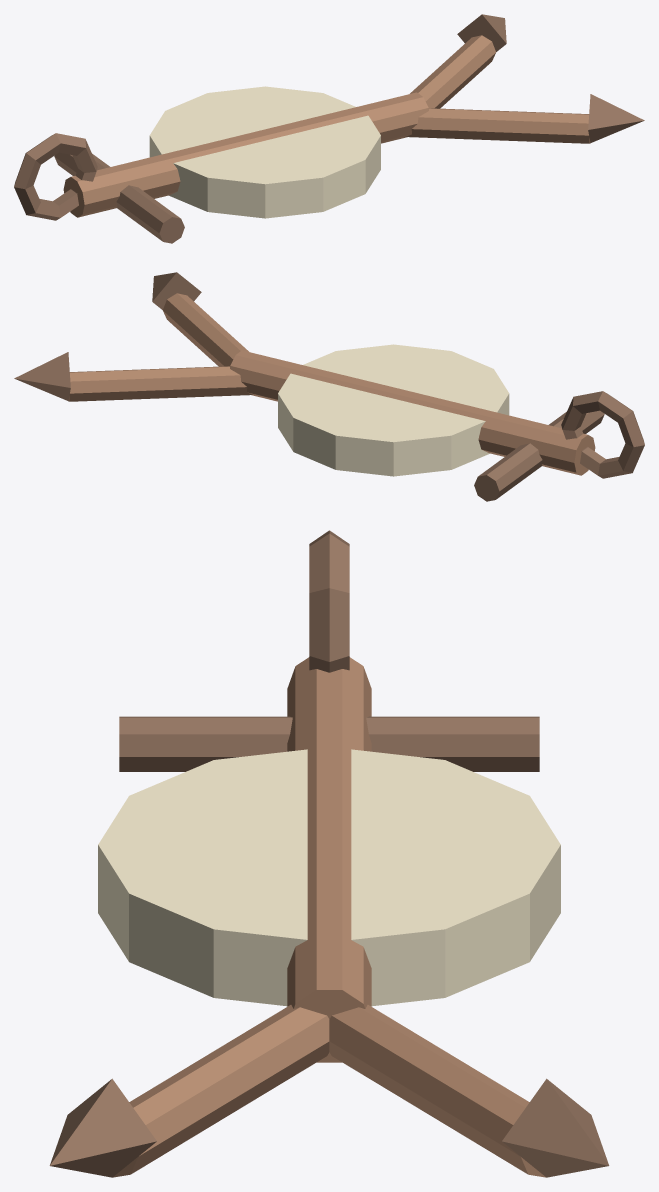
The model's file is 45-Arte3D_ancla_naufragio.glb.
3 views of the same model, one above another, from view 1: azimuth 30°, elevation 25°; view 2: azimuth 150°, elevation 25°; view 3: azimuth 270°, elevation 25° (orthographic). The views are drawn at different scales.
Parts seen in each view (by area): view 1: SM_Ancla_M_Arena_Isla, SM_Ancla_M_Ancla_Hierro, SM_Ancla_M_Ancla_Hierro_Osc; view 2: SM_Ancla_M_Arena_Isla, SM_Ancla_M_Ancla_Hierro, SM_Ancla_M_Ancla_Hierro_Osc; view 3: SM_Ancla_M_Arena_Isla, SM_Ancla_M_Ancla_Hierro, SM_Ancla_M_Ancla_Hierro_Osc.
Part boxes in pixels (left/top/right/bottom): SM_Ancla_M_Arena_Isla: left=149, top=86, right=380, bottom=218; SM_Ancla_M_Ancla_Hierro: left=63, top=35, right=590, bottom=217; SM_Ancla_M_Ancla_Hierro_Osc: left=14, top=14, right=644, bottom=243; SM_Ancla_M_Arena_Isla: left=278, top=344, right=509, bottom=476; SM_Ancla_M_Ancla_Hierro: left=68, top=293, right=595, bottom=475; SM_Ancla_M_Ancla_Hierro_Osc: left=14, top=272, right=644, bottom=501; SM_Ancla_M_Arena_Isla: left=98, top=749, right=560, bottom=1006; SM_Ancla_M_Ancla_Hierro: left=113, top=657, right=545, bottom=1177; SM_Ancla_M_Ancla_Hierro_Osc: left=49, top=530, right=609, bottom=1177.
Size of the model in its own units: 3.08 by 0.46 by 1.33.
